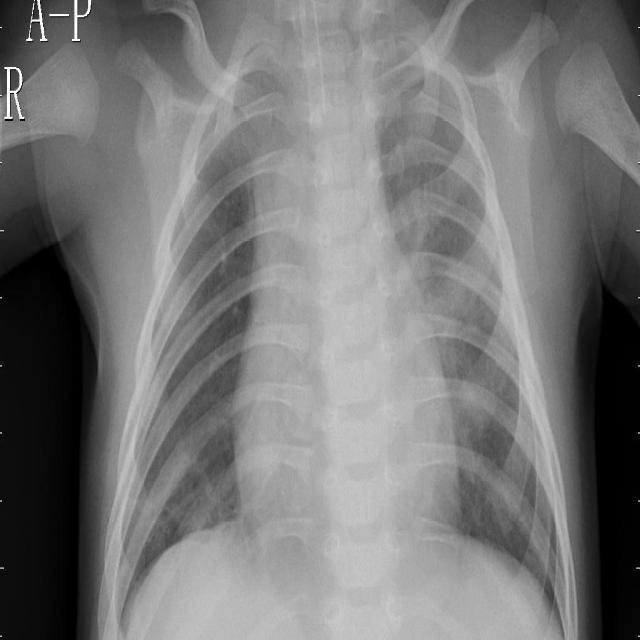low-pneumonia: (376, 70, 448, 287)
